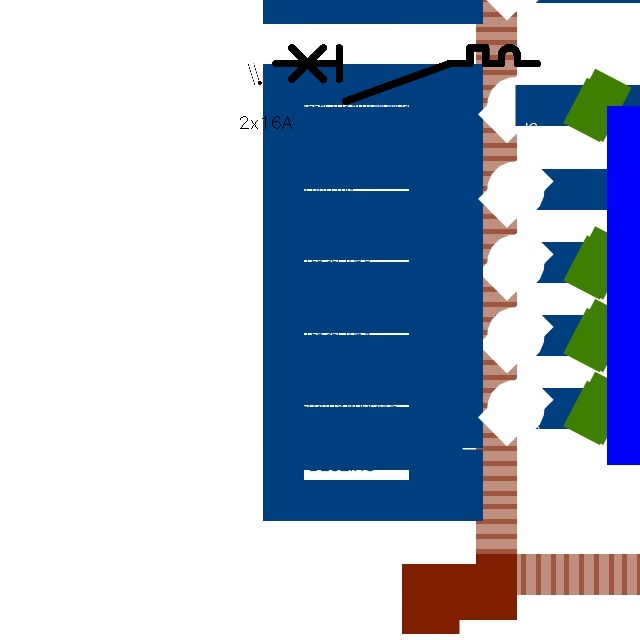interruptor_termomagnetico: (269, 41, 544, 108)
